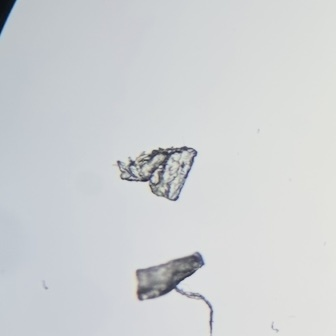microplastic: (136, 252, 213, 336), (117, 146, 197, 201)
